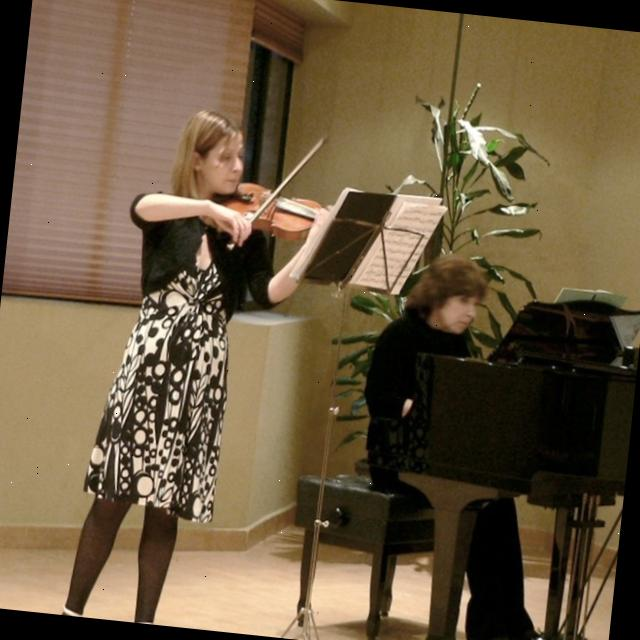violin: (208, 177, 334, 245)
